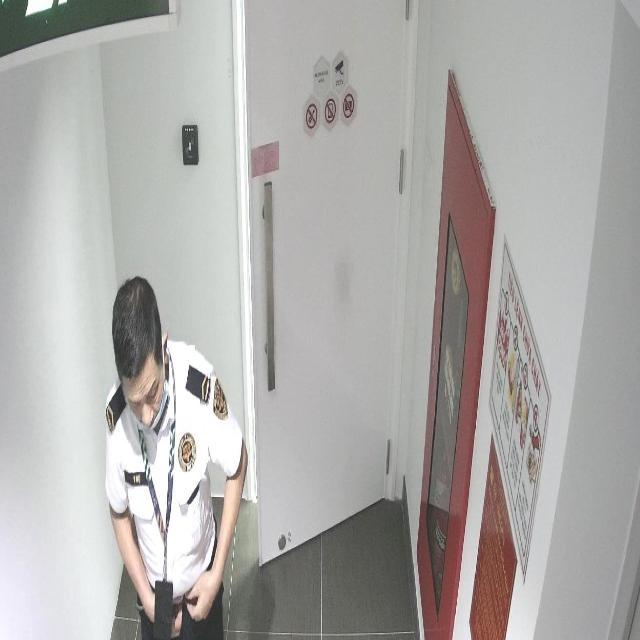hairnet: (127, 400, 173, 436)
